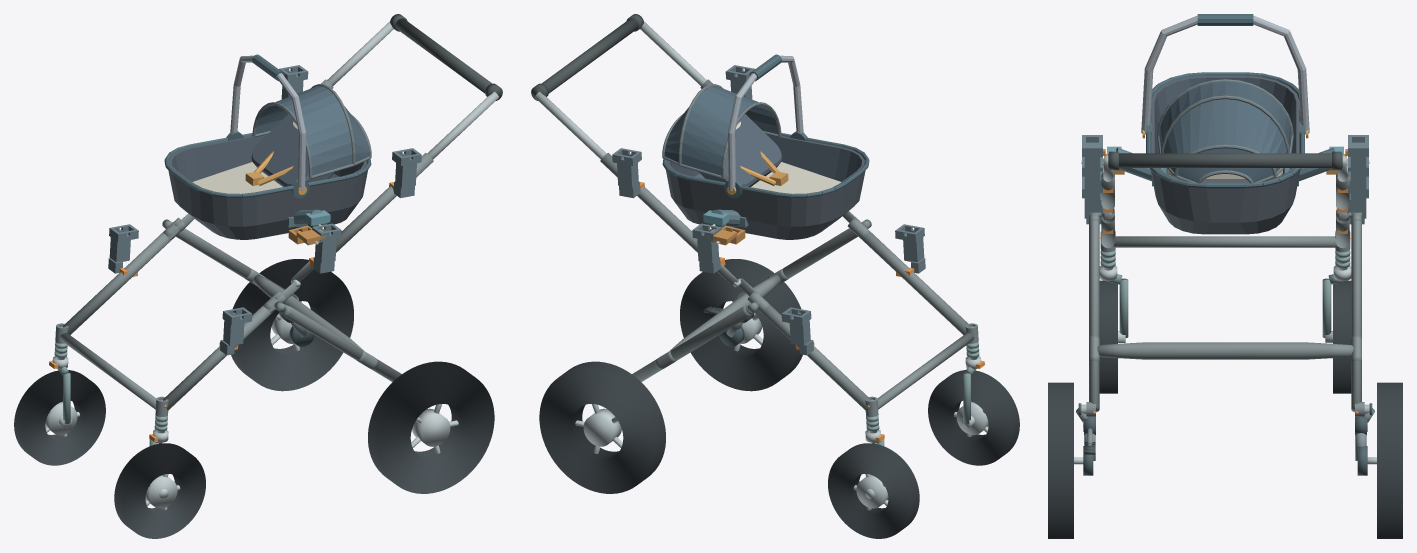
File: S07_w650_state1_wheel_L.glb
3 renders of one model, left to right at view 1: azimuth 30°, elevation 25°; view 2: azimuth 150°, elevation 25°; view 3: azimuth 270°, elevation 25°, orthographic. The views are drawn at different scales.
Parts seen in each view (by area): view 1: S07_Cabin, RL_tire.008, RR_tire.008, FL_tire.008, FR_tire.008, main_lower_1.009, round_handle.008, V46_rear_leg_-1.009, main_lower_-1.009, front_fixed_round_tube.008, main_upper_-1.009, Universal_Cabin_Receiver_H_-1 (+11 smaller); view 2: S07_Cabin, RR_tire.008, RL_tire.008, FR_tire.008, FL_tire.008, main_lower_-1.009, round_handle.008, V46_rear_leg_1.009, main_lower_1.009, front_fixed_round_tube.008, main_upper_1.009, Universal_Cabin_Receiver_H_1 (+11 smaller); view 3: S07_Cabin, V46_rearbar.009, RL_tire.008, RR_tire.008, round_handle.008, front_fixed_round_tube.008, FL_tire.008, FR_tire.008, V46_rear_leg_1.009, V46_rear_leg_-1.009, Universal_Cabin_Receiver_H_1, Universal_Cabin_Receiver_H_-1 (+5 smaller).
Part boxes in pixels (x1=…): S07_Cabin: x1=164, y1=54, x2=371, y2=239; RL_tire.008: x1=368, y1=361, x2=494, y2=493; RR_tire.008: x1=231, y1=259, x2=353, y2=391; FL_tire.008: x1=114, y1=443, x2=205, y2=538; FR_tire.008: x1=14, y1=370, x2=105, y2=465; main_lower_1.009: x1=62, y1=230, x2=178, y2=335; round_handle.008: x1=395, y1=18, x2=501, y2=99; V46_rear_leg_-1.009: x1=283, y1=306, x2=401, y2=381; main_lower_-1.009: x1=163, y1=306, x2=274, y2=410; front_fixed_round_tube.008: x1=59, y1=333, x2=156, y2=409; main_upper_-1.009: x1=314, y1=153, x2=433, y2=257; Universal_Cabin_Receiver_H_-1: x1=392, y1=148, x2=421, y2=198; S07_Cabin: x1=662, y1=54, x2=869, y2=239; RR_tire.008: x1=539, y1=361, x2=665, y2=493; RL_tire.008: x1=680, y1=259, x2=802, y2=391; FR_tire.008: x1=828, y1=443, x2=919, y2=538; FL_tire.008: x1=928, y1=370, x2=1019, y2=465; main_lower_-1.009: x1=855, y1=230, x2=971, y2=335; round_handle.008: x1=532, y1=18, x2=638, y2=99; V46_rear_leg_1.009: x1=632, y1=306, x2=750, y2=381; main_lower_1.009: x1=759, y1=306, x2=870, y2=410; front_fixed_round_tube.008: x1=877, y1=333, x2=974, y2=409; main_upper_1.009: x1=600, y1=153, x2=719, y2=257; Universal_Cabin_Receiver_H_1: x1=612, y1=148, x2=641, y2=198; S07_Cabin: x1=1141, y1=14, x2=1309, y2=234; V46_rearbar.009: x1=1097, y1=342, x2=1353, y2=359; RL_tire.008: x1=1048, y1=382, x2=1073, y2=538; RR_tire.008: x1=1377, y1=382, x2=1402, y2=538; round_handle.008: x1=1108, y1=153, x2=1342, y2=167; front_fixed_round_tube.008: x1=1113, y1=236, x2=1337, y2=247; FL_tire.008: x1=1099, y1=280, x2=1117, y2=393; FR_tire.008: x1=1333, y1=280, x2=1351, y2=393; V46_rear_leg_1.009: x1=1351, y1=219, x2=1361, y2=412; V46_rear_leg_-1.009: x1=1089, y1=219, x2=1099, y2=412; Universal_Cabin_Receiver_H_1: x1=1348, y1=135, x2=1368, y2=193; Universal_Cabin_Receiver_H_-1: x1=1082, y1=135, x2=1102, y2=193.
Size of the model in its own units: 1.2 by 1.18 by 0.8171.
